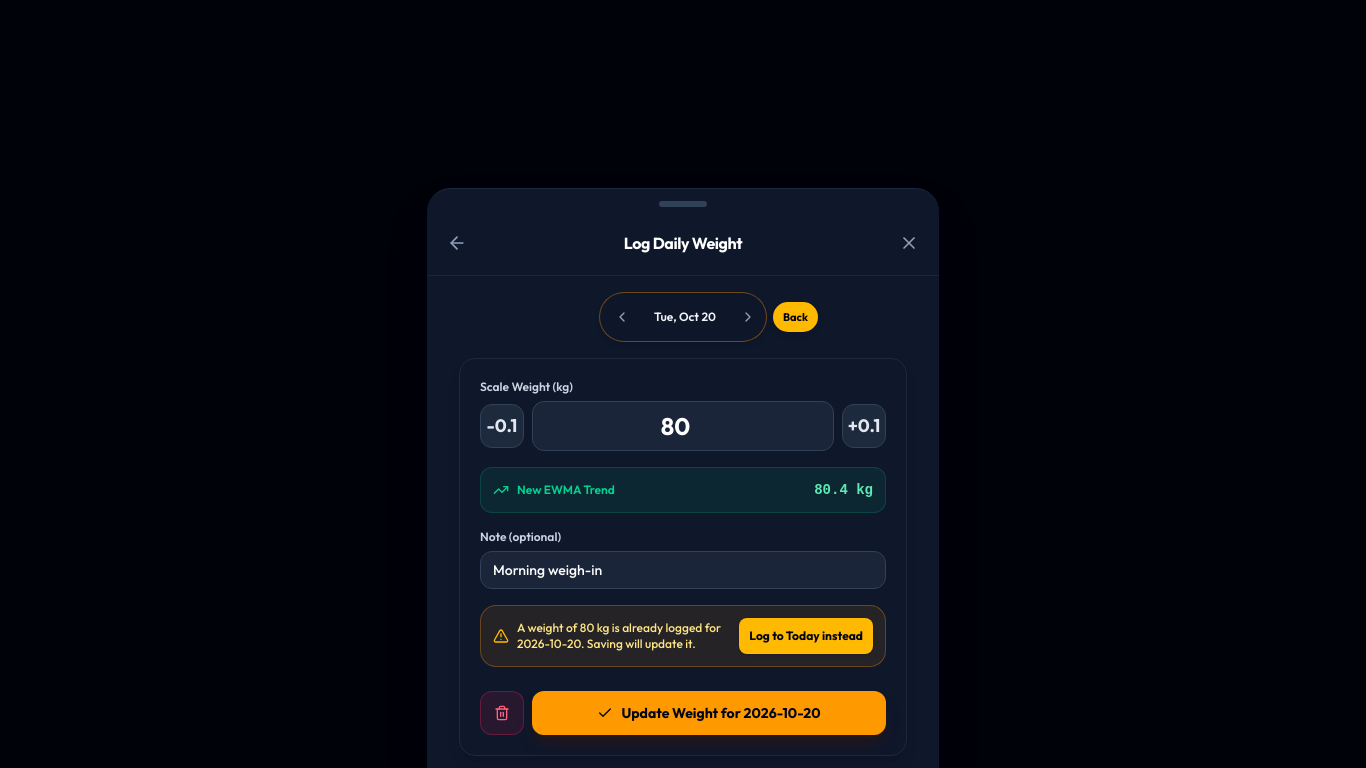
Test: Wave 5: Adaptive Expenditure & Weight Tracking UI Components › 3. WeightQuickLogModal › renders with accessibility attributes and pre-fills existing log for selectedDate
The image size is (1366, 768).
Expected: the dialog is shown, [427, 188, 939, 767]
Expected: the number field with test id "input-quick-weight" holds "80", [532, 401, 834, 451]
Click the button with test id "btn-step-weight-down".
click(502, 426)  # box [480, 404, 524, 448]
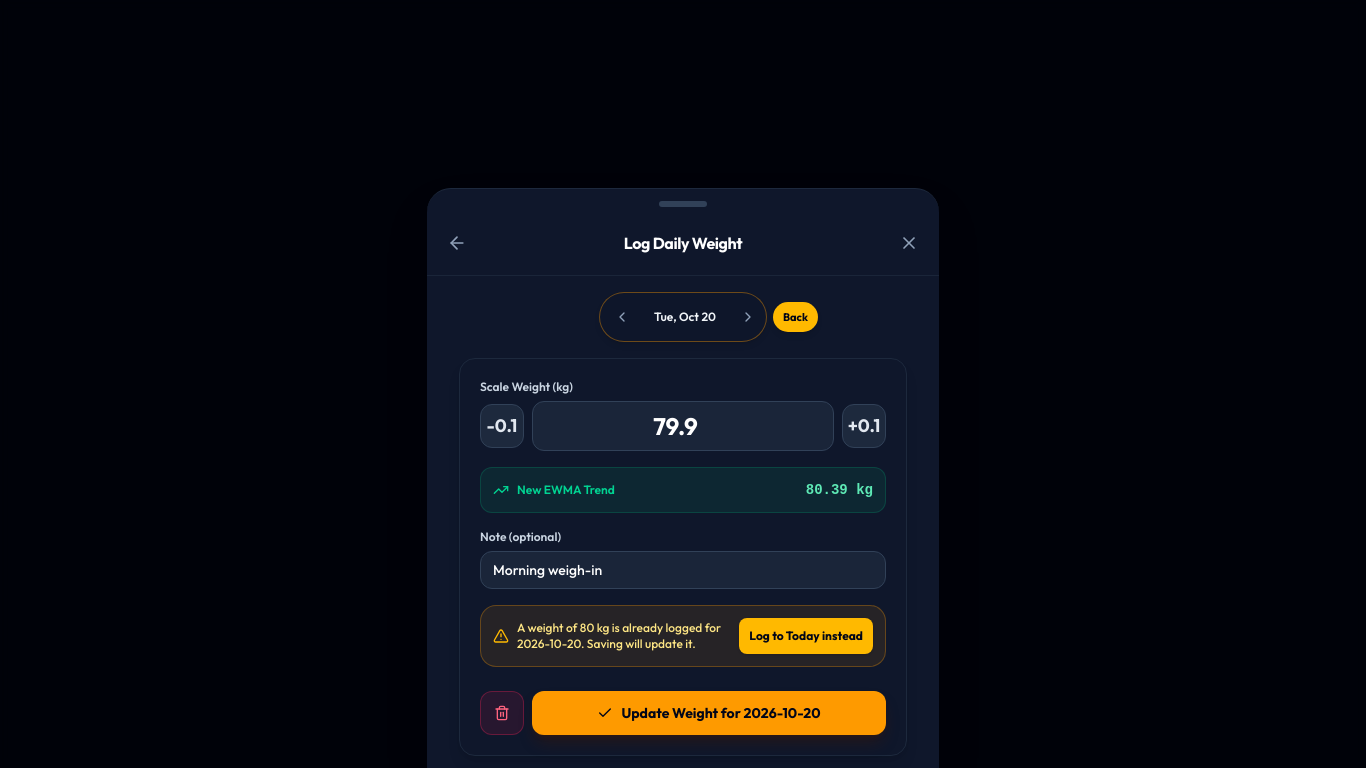
Result: the number field with test id "input-quick-weight" holds "79.9" at [532, 401, 834, 451]
